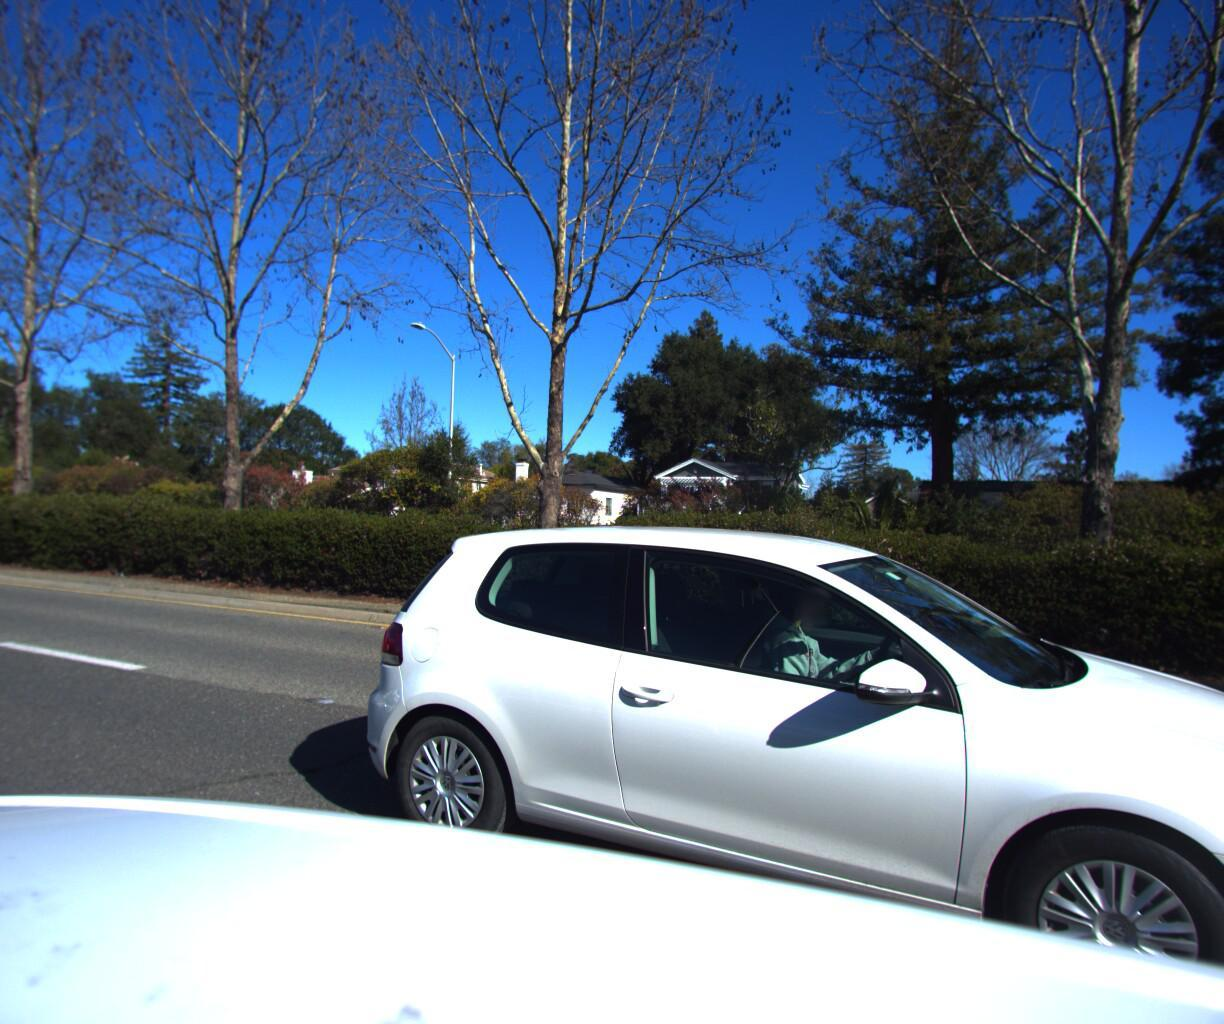car: (342, 504, 1224, 1024)
